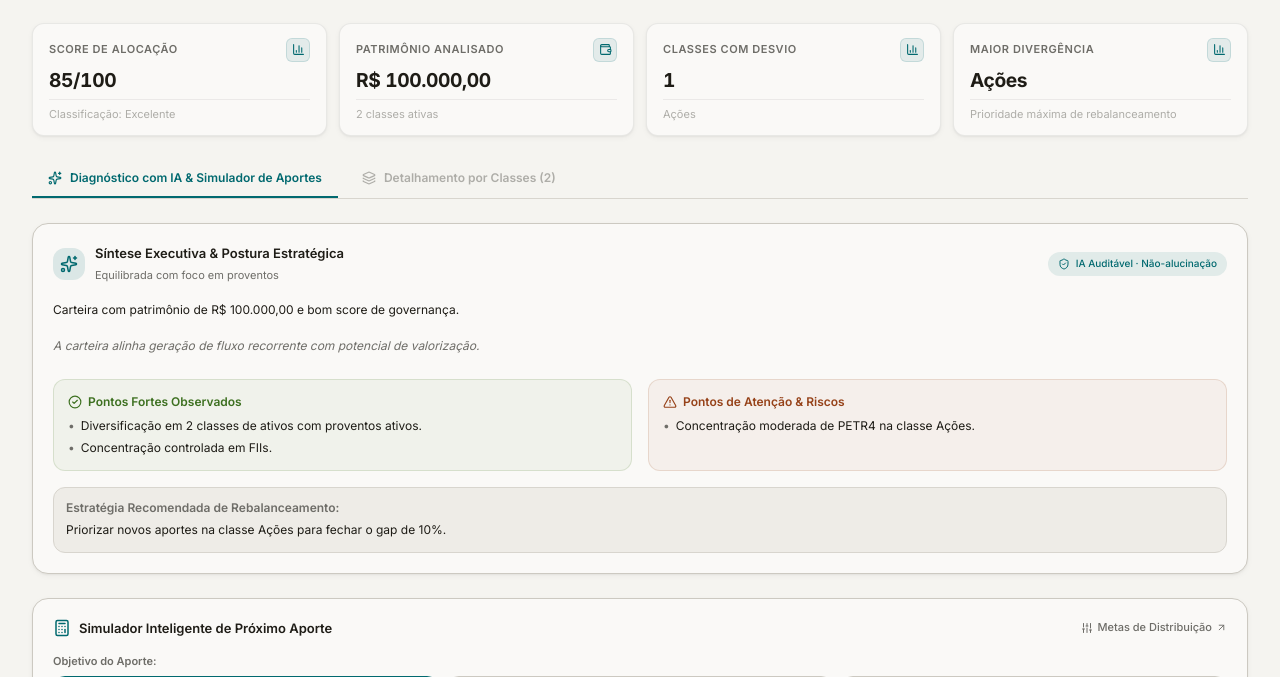
Test: AnalisePage determinismo e inteligência artificial (Issues #360 e #361) › renders class breakdown cards when switching to classes tab
This screenshot has width=1280, height=677.
Click the button "Detalhamento por Classes (2)" at (459, 179), box [346,160,572,198]
(page scrolled)
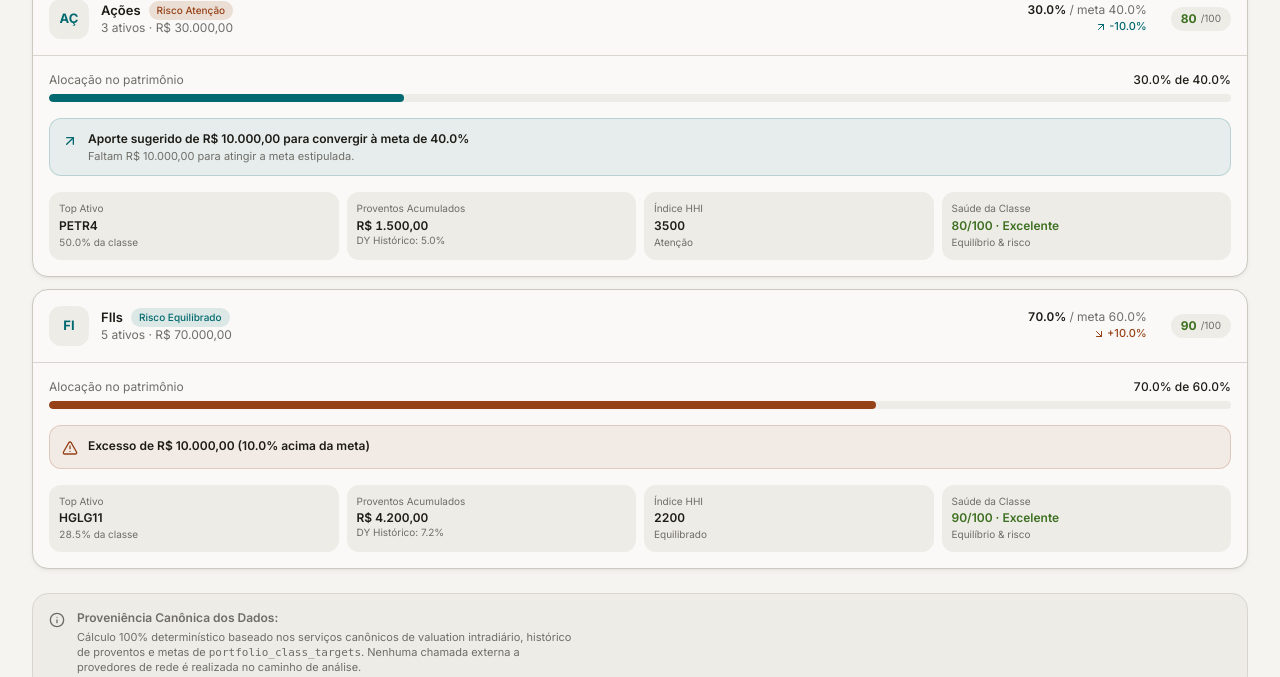
Check: the text "FIIs" is shown, box [101,308,123,327]
Check: the text "Aporte sugerido de R$ 10.000,00 para convergir à meta de 40.0%" is shown, box [88,130,469,146]
Check: the text "Excesso de R$ 10.000,00 (10.0% acima da meta)" is shown, box [88,438,370,454]
